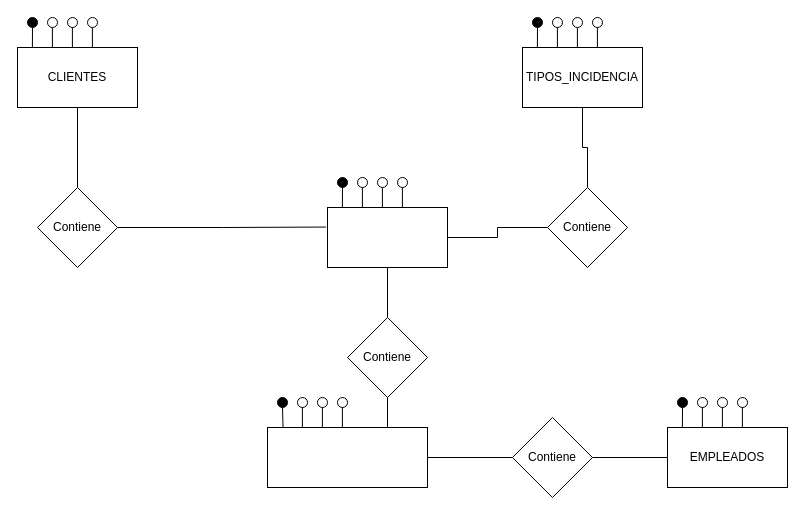
Image size: 805x515. Some labels were removed from this diagram. The centre of each missing label's shape, as x and y in pixels:
"CONTACTO_EMPLEADO" belongs at point 347,457.
"TICKETS_EMITIDOS" belongs at point 387,237.
